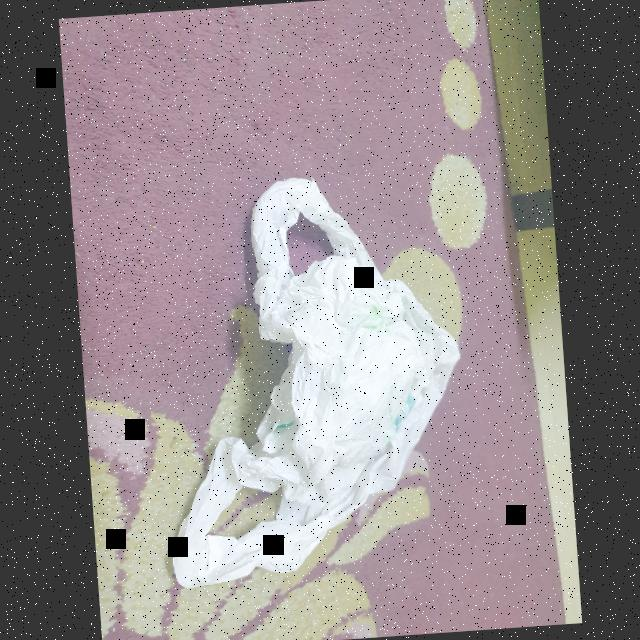plastic_bag: (138, 154, 484, 594)
